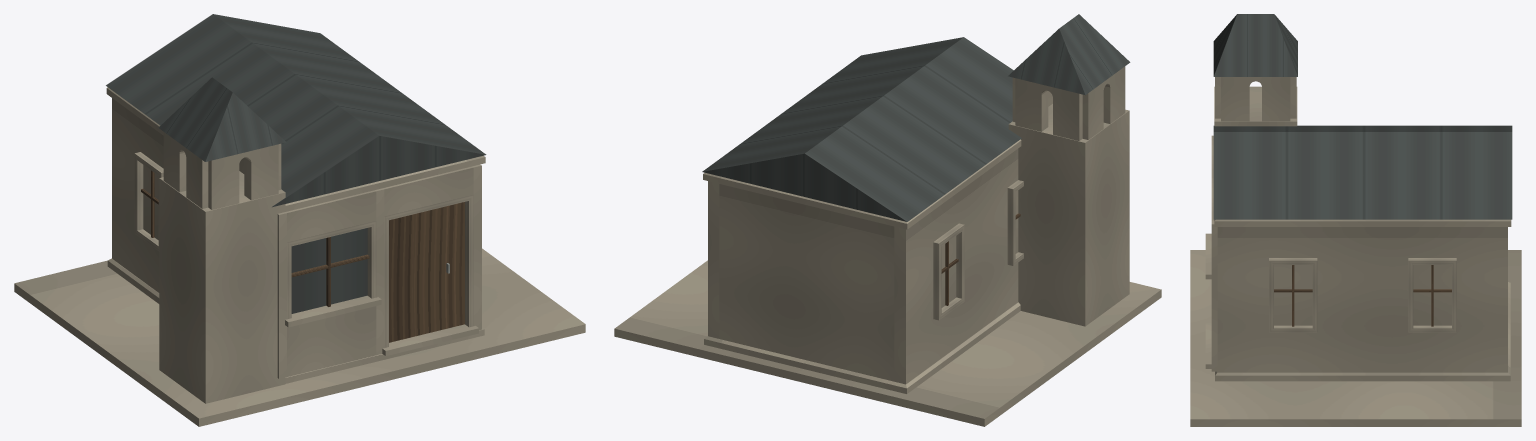
The picture shows the model from 3 angles, left to right: view 1: azimuth 30°, elevation 25°; view 2: azimuth 150°, elevation 25°; view 3: azimuth 270°, elevation 25°; orthographic projection. The views are drawn at different scales.
Parts seen in each view (by area): view 1: stanley; view 2: stanley; view 3: stanley.
Part boxes in pixels (bbox=[...]): stanley: bbox=[14, 14, 585, 426]; stanley: bbox=[614, 14, 1161, 426]; stanley: bbox=[1190, 14, 1521, 426].
Bounding box in the file's own units: 5.8 × 4.31 × 4.8.
1 material, 1 textured.
